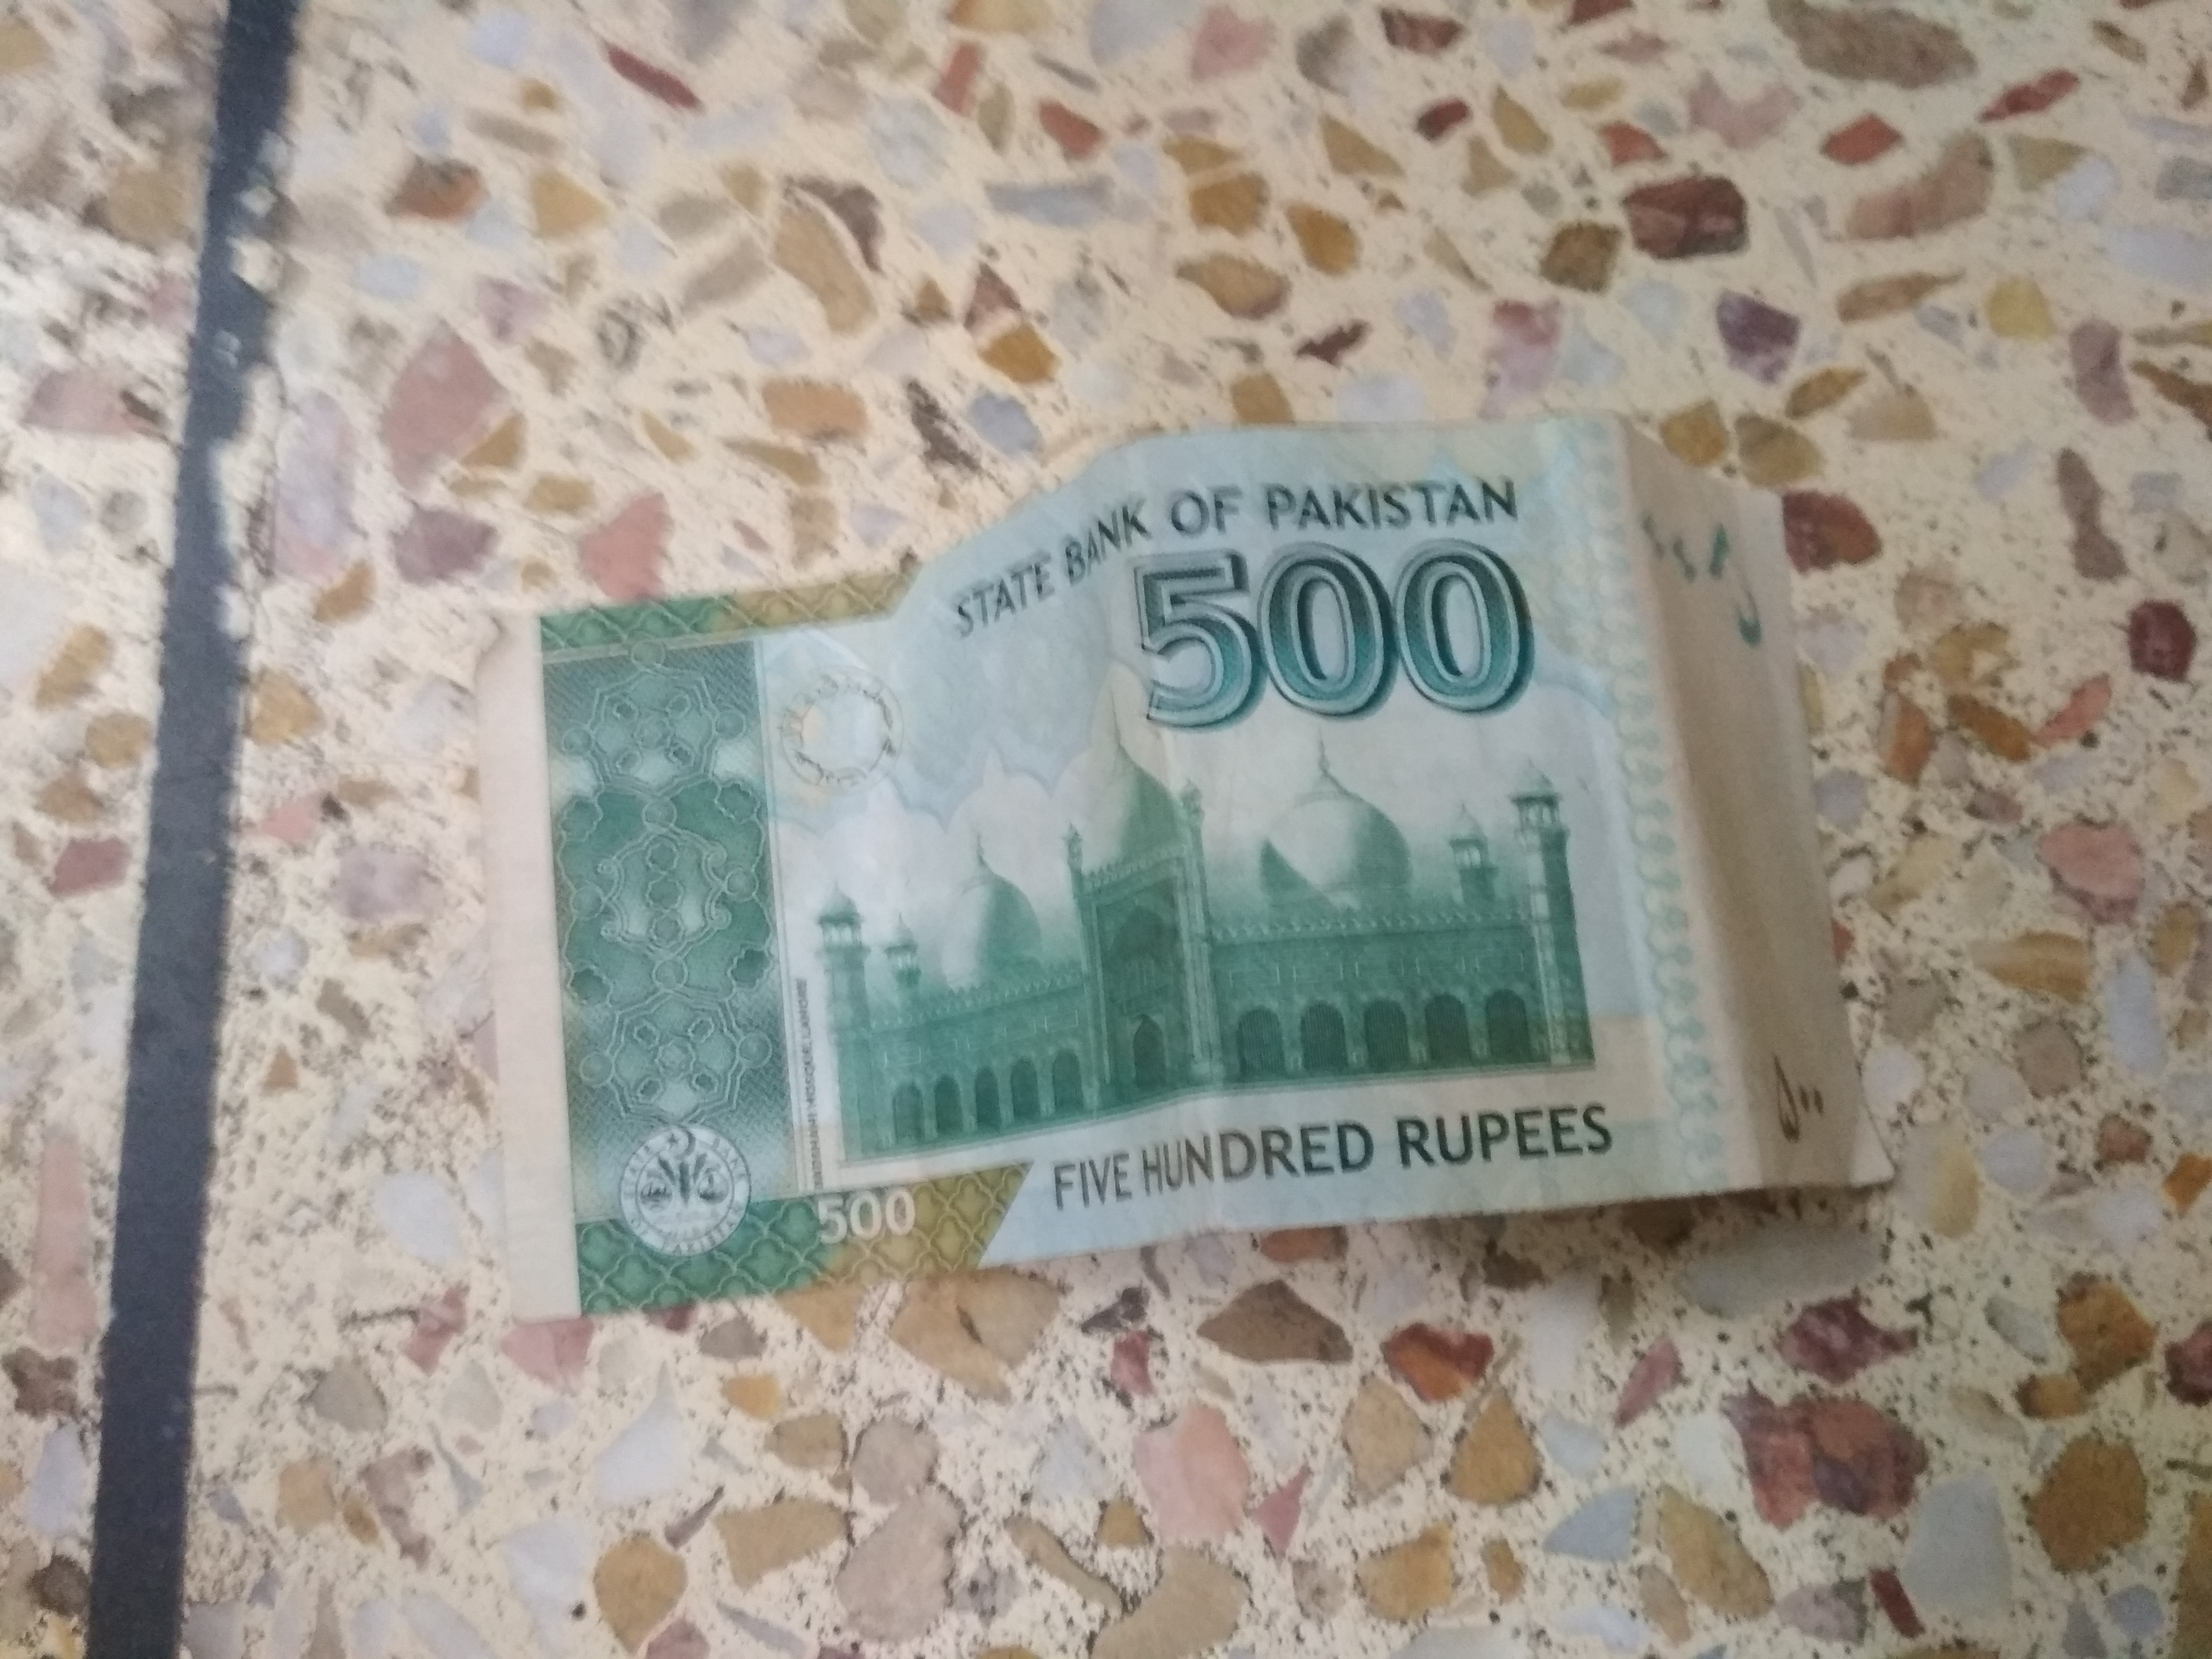500 rupee: (435, 434, 1959, 1373)
